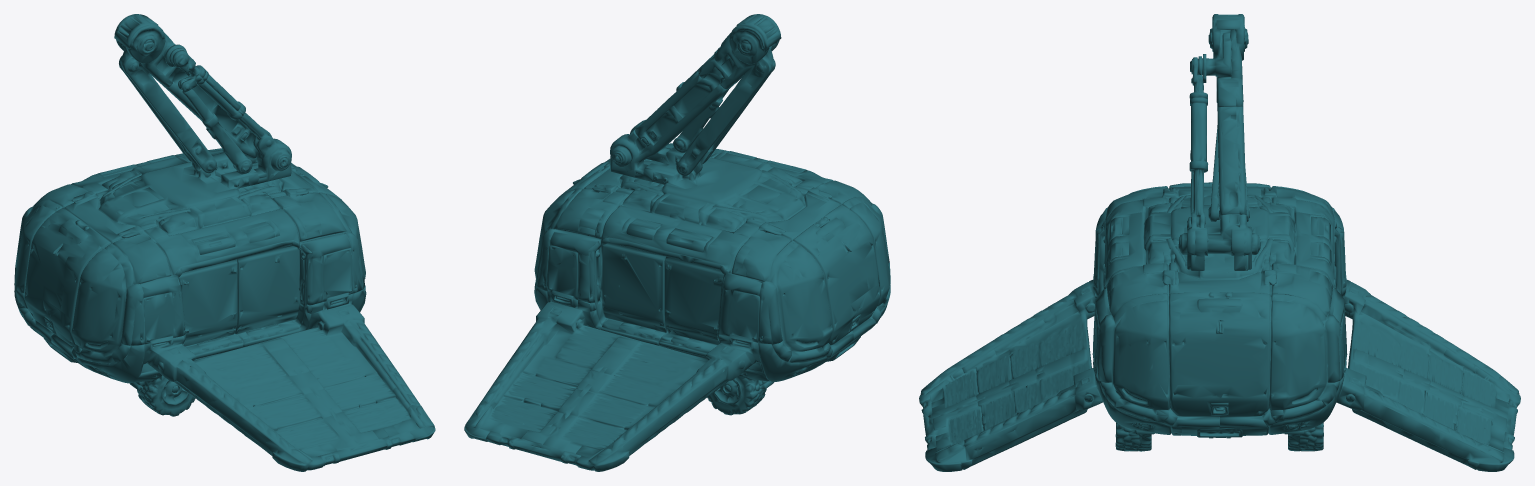
File: gen-drone-launcher-vehicle-1.glb
3 renders of one model, left to right at view 1: azimuth 30°, elevation 25°; view 2: azimuth 150°, elevation 25°; view 3: azimuth 270°, elevation 25°, orthographic. The views are drawn at different scales.
Parts seen in each view (by area): view 1: gen-drone-launcher-vehicle-1_part1; view 2: gen-drone-launcher-vehicle-1_part1; view 3: gen-drone-launcher-vehicle-1_part1.
Part boxes in pixels (x1,y1,x2,y2): gen-drone-launcher-vehicle-1_part1: [14, 14, 435, 471]; gen-drone-launcher-vehicle-1_part1: [464, 14, 890, 471]; gen-drone-launcher-vehicle-1_part1: [919, 14, 1520, 471].
Size of the model in its own units: 1861 by 2205 by 3201.
